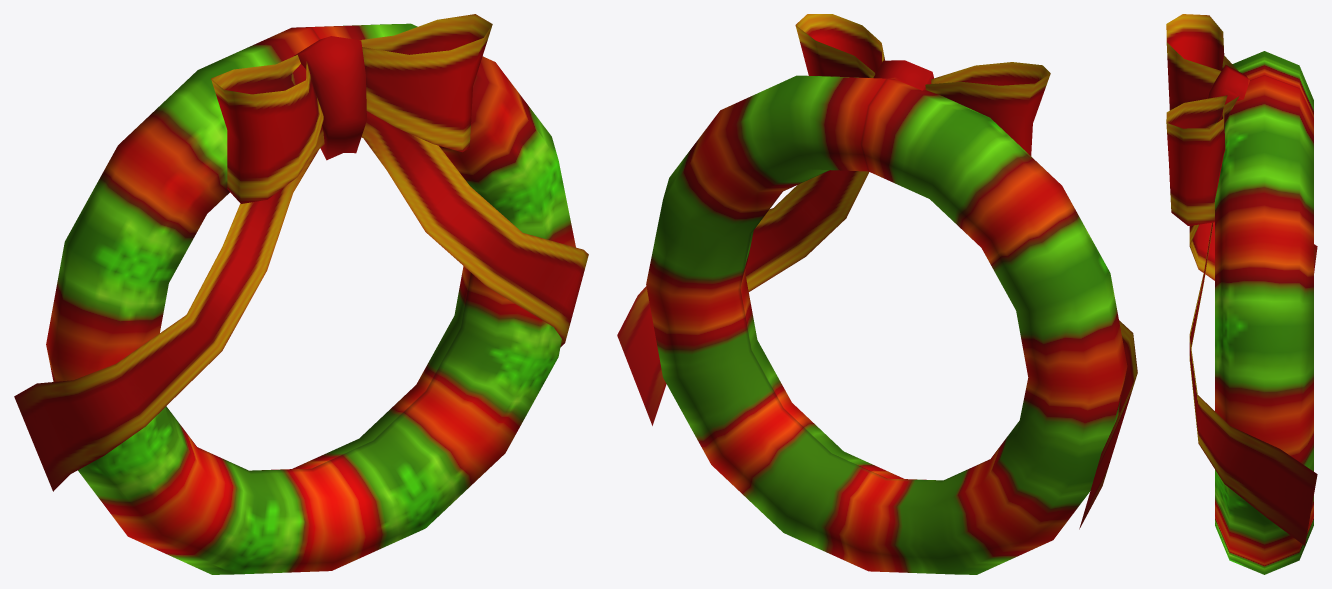
Rendered from reels.gltf.
3 views of the same model, side by side, from view 1: azimuth 30°, elevation 25°; view 2: azimuth 150°, elevation 25°; view 3: azimuth 270°, elevation 25° (orthographic). The views are drawn at different scales.
Parts seen in each view (by area): view 1: Wrealth_02; view 2: Wrealth_02; view 3: Wrealth_02.
Boxes of the visible parts, x1,y1,x2,y2 form: Wrealth_02: [14, 14, 588, 574]; Wrealth_02: [617, 14, 1137, 574]; Wrealth_02: [1166, 14, 1317, 574].
Bounding box in the file's own units: 1.22 × 1.2 × 0.341.
Materials: 1 (1 with a texture image).
